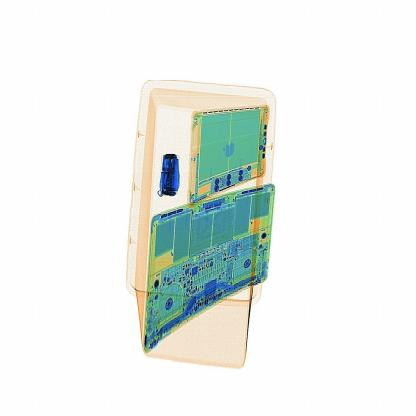scissors: (156, 155, 188, 199)
